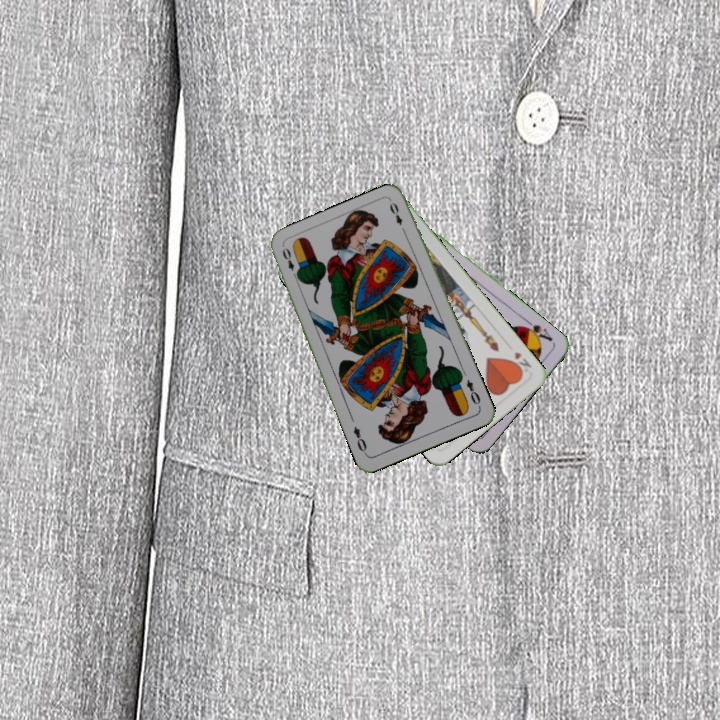EO: (278, 244, 301, 282), (462, 376, 483, 410)
HK: (507, 347, 534, 377)
SA: (518, 315, 555, 345)
